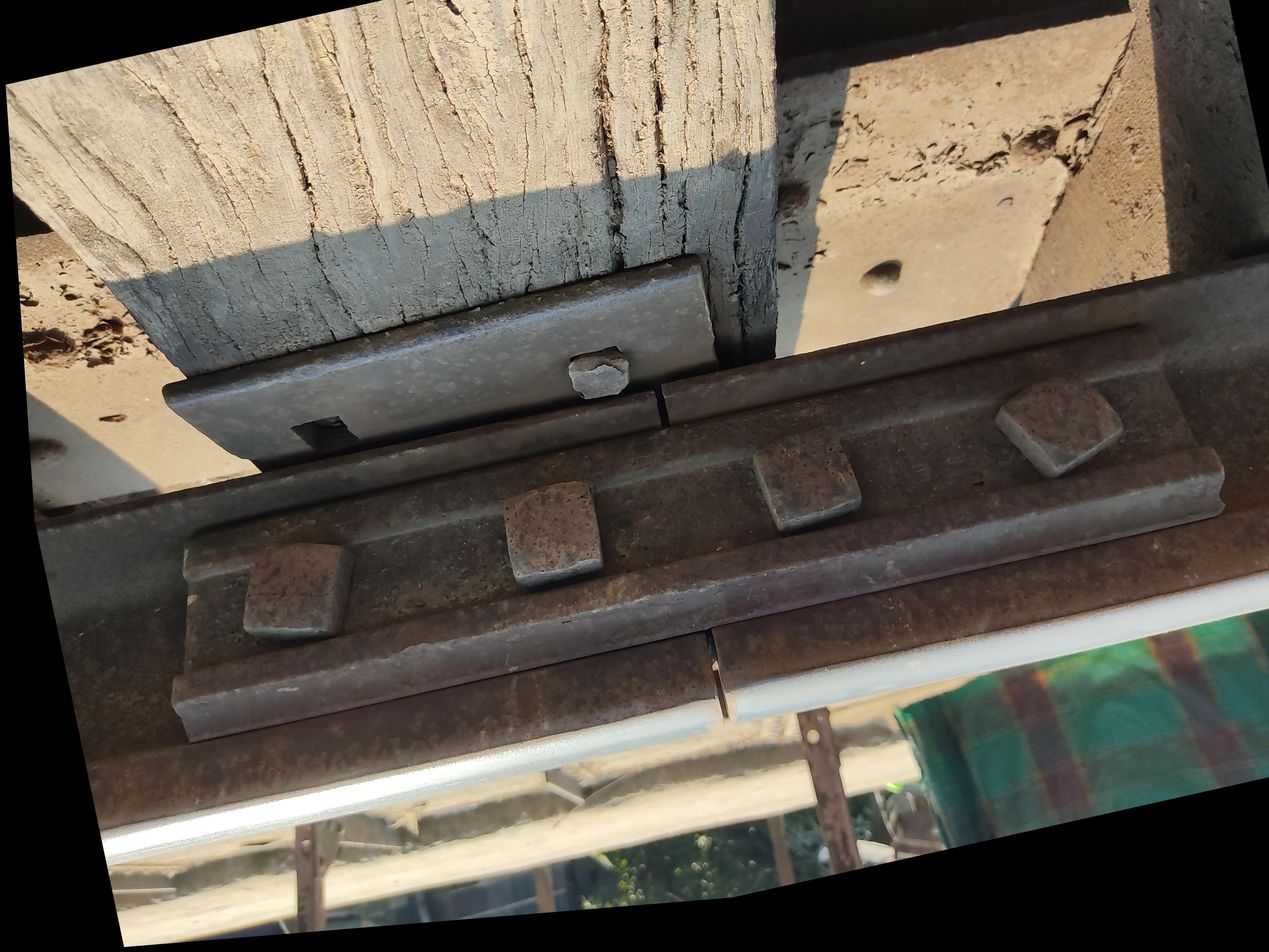person: (363, 796, 482, 906), (375, 691, 420, 737)
